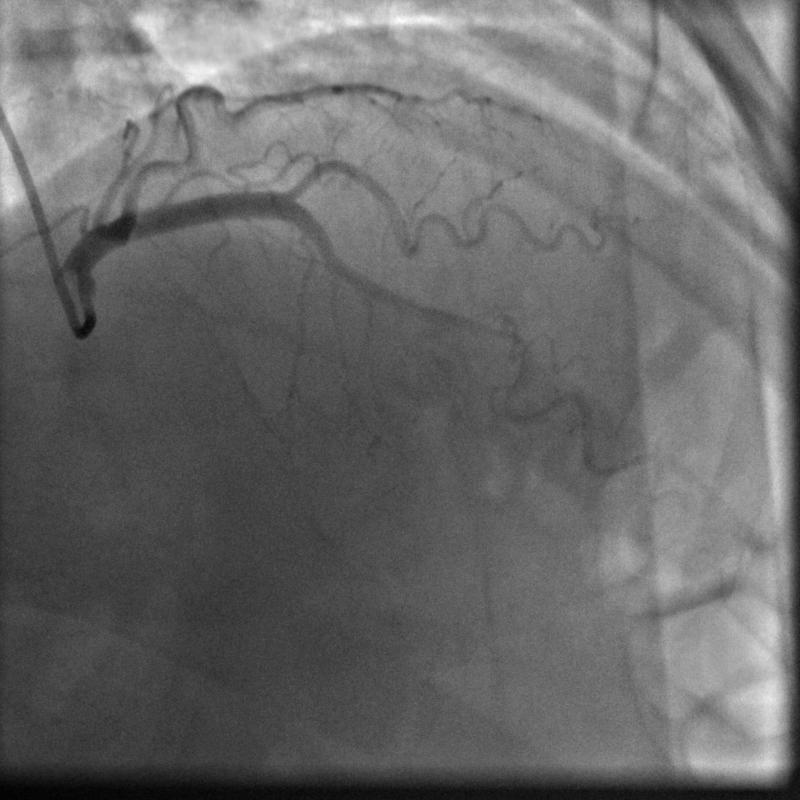Stenosis: (470, 316, 531, 354)
